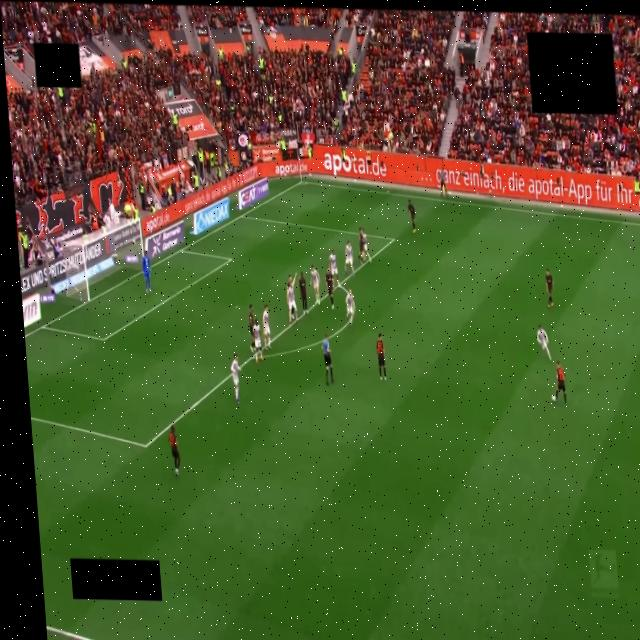ball: (551, 396, 556, 402)
player: (168, 425, 180, 476), (553, 362, 566, 404), (286, 276, 297, 323), (537, 325, 551, 360), (376, 334, 386, 380), (253, 319, 263, 363), (231, 355, 240, 403), (262, 304, 271, 348), (299, 272, 308, 314), (311, 266, 320, 304), (361, 229, 371, 263), (326, 267, 334, 309), (142, 252, 150, 293), (329, 250, 338, 286), (345, 241, 354, 274), (546, 270, 554, 307), (248, 304, 254, 353), (346, 289, 354, 325), (408, 201, 416, 233), (359, 228, 364, 264)
referee: (322, 335, 333, 385)
